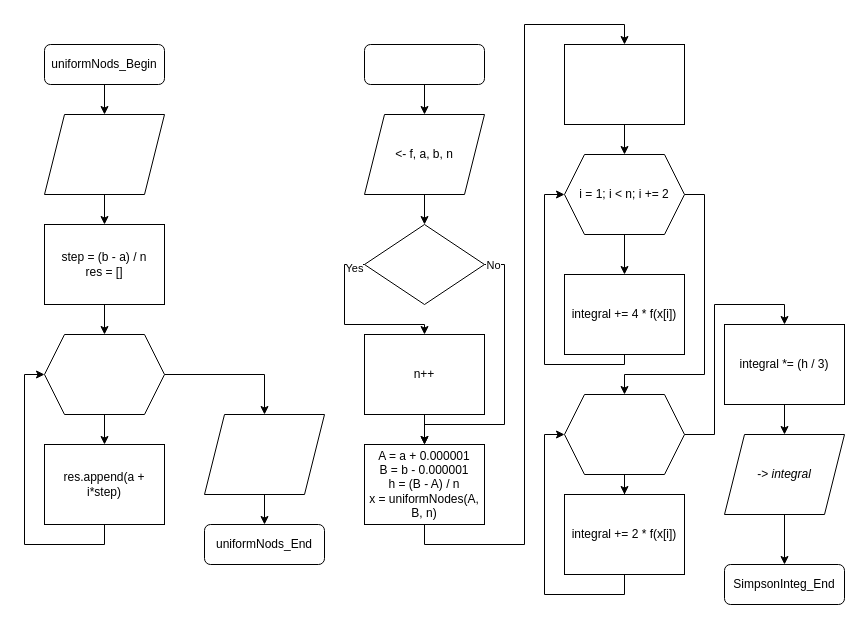
Image size: 862x622. Some labels were removed from this diagram. Each missing label, with the centre of its shape:
-> res: the point at 264,454
<- a. b, n: the point at 104,154
i = 0; i <= n; i++: the point at 104,374
i = 2; i < n - 1; i += 2: the point at 624,434
integral = f(x[0]) + f(x[n]): the point at 624,84
n % 2 = 1: the point at 424,264
SimpsonInteg_Begin: the point at 424,64
